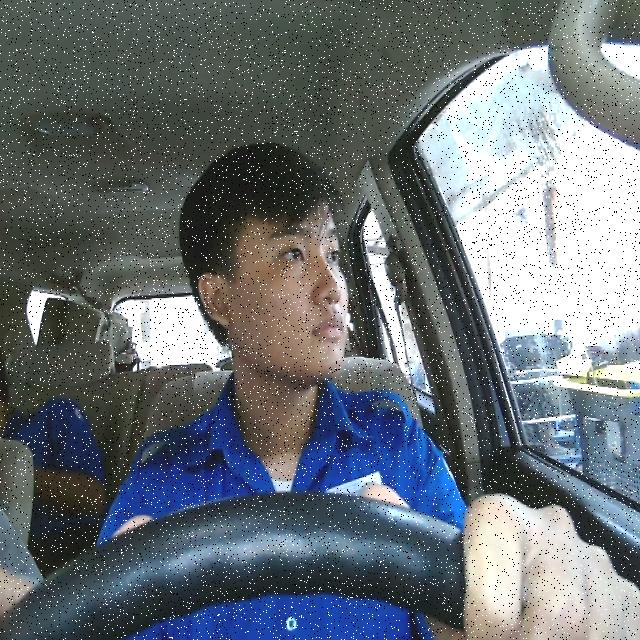seeing_right: (197, 192, 349, 382)
